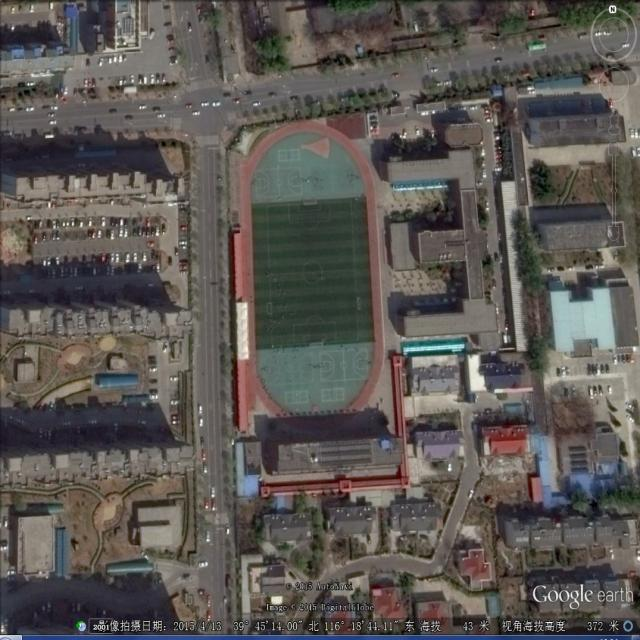playground: (237, 118, 389, 434)
